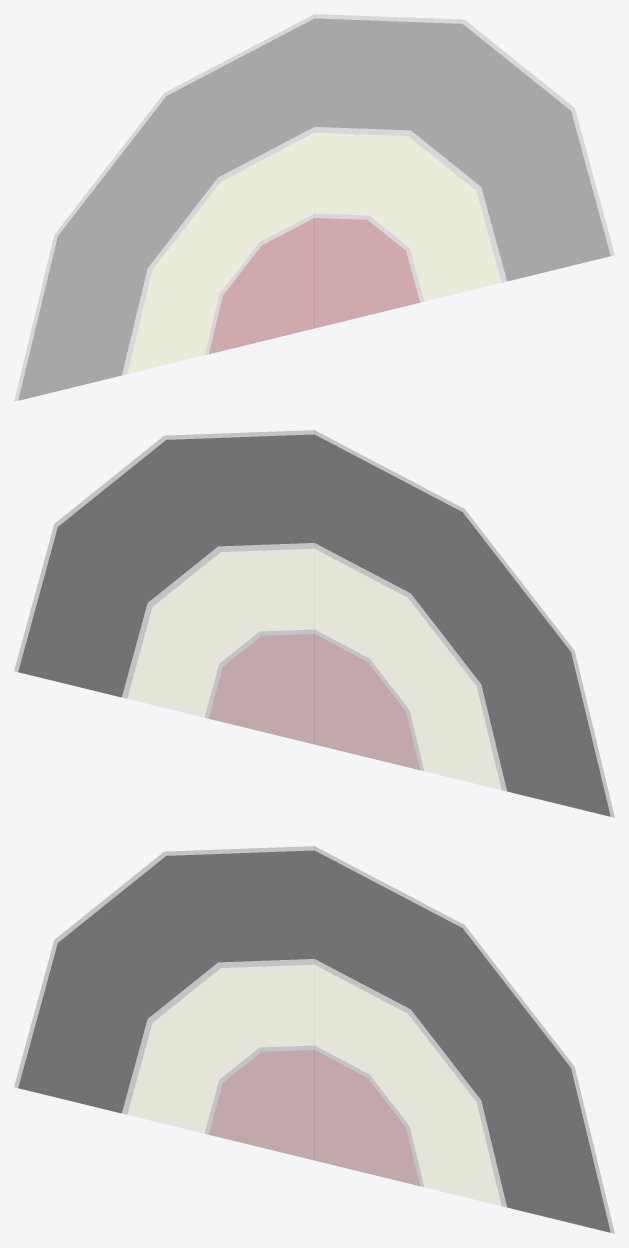
The model's file is Ring.fbx.
3 renders of one model, top to bottom at view 1: azimuth 30°, elevation 25°; view 2: azimuth 150°, elevation 25°; view 3: azimuth 330°, elevation 25°, orthographic.
Visible parts, largest first — view 1: Ring; view 2: Ring; view 3: Ring.
Boxes of the visible parts, x1=… form: Ring: x1=14, y1=14, x2=614, y2=401; Ring: x1=14, y1=430, x2=614, y2=817; Ring: x1=14, y1=846, x2=614, y2=1233.
Size of the model in its own units: 4.49 by 2.24 by 3.05e-07.
